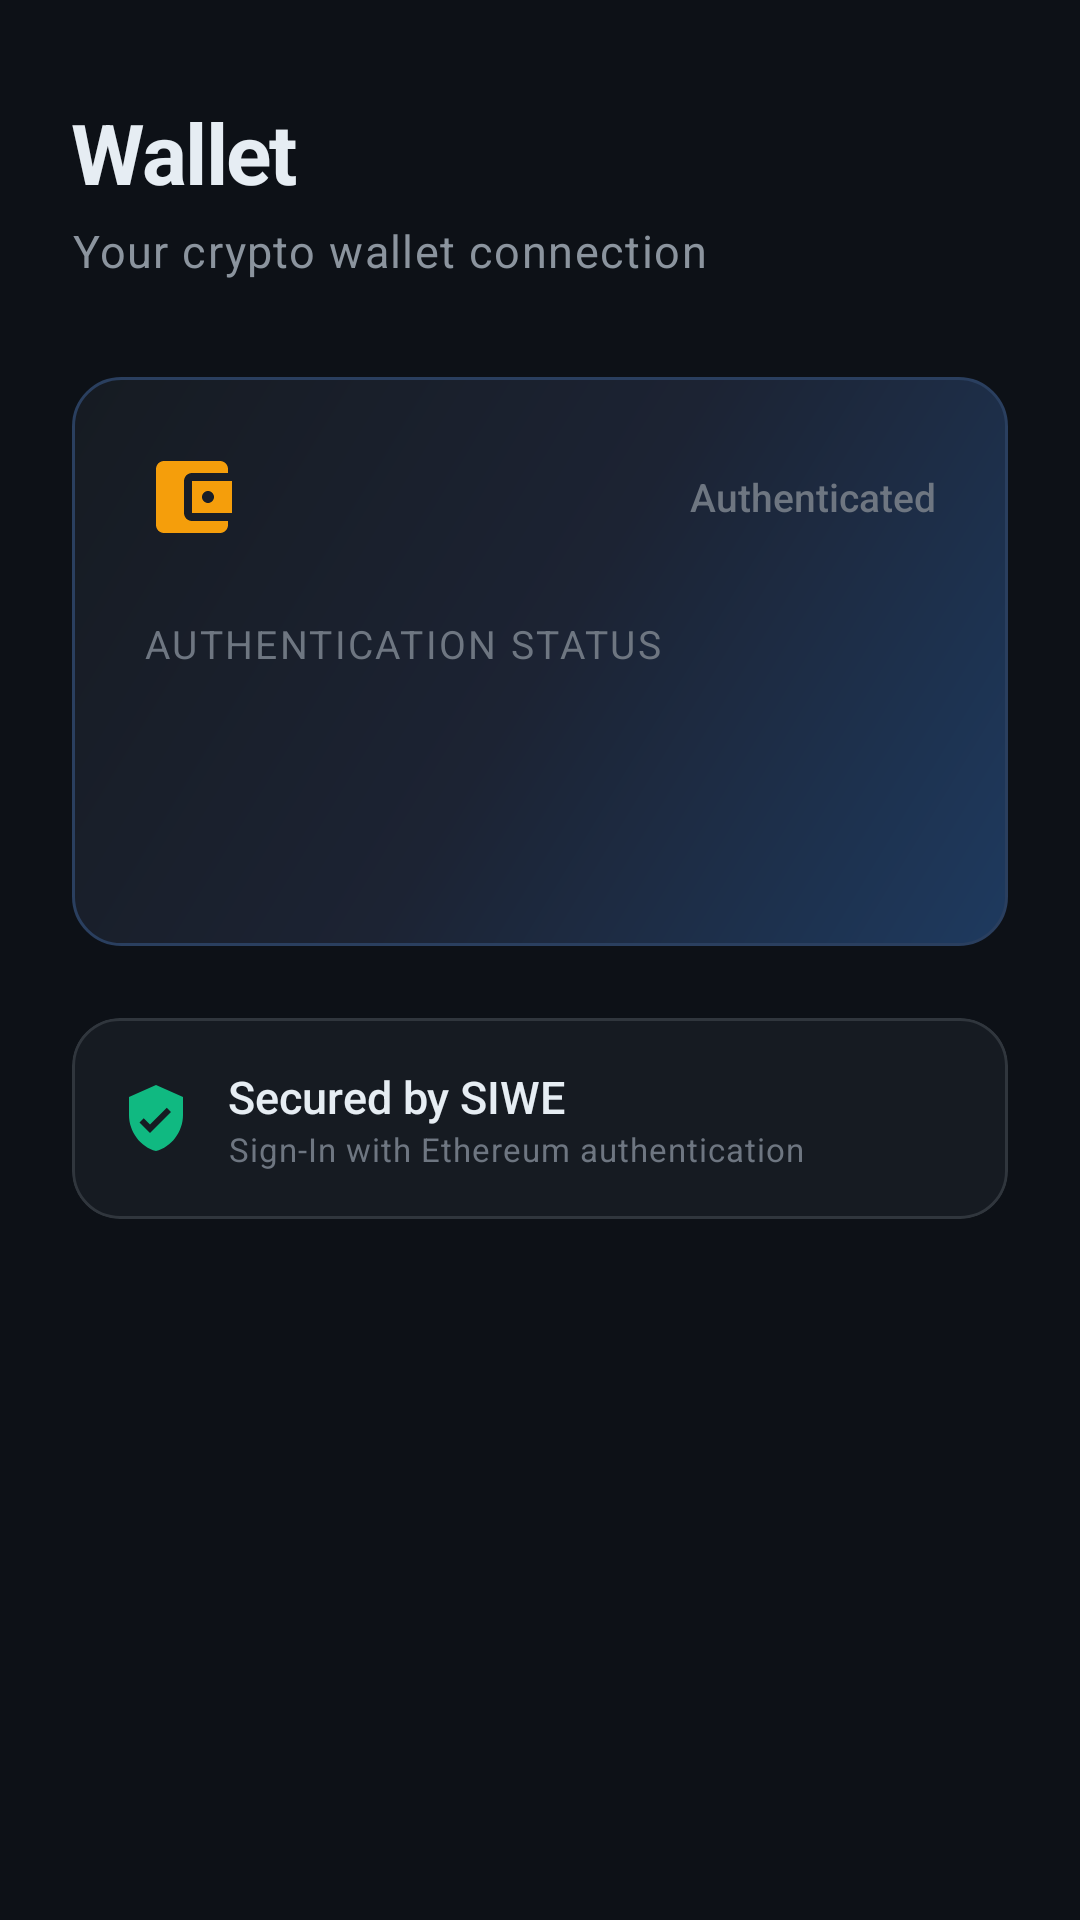

Locate icon controls on the screen. Image size 1080×1920, boxes as (x1, y1, x2, y2).
shield: (129, 1085, 183, 1151)
wallet: (156, 461, 232, 533)
